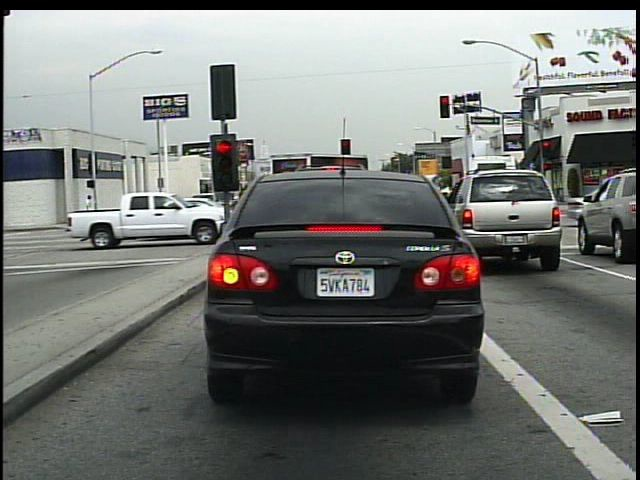person: (80, 189, 101, 223)
